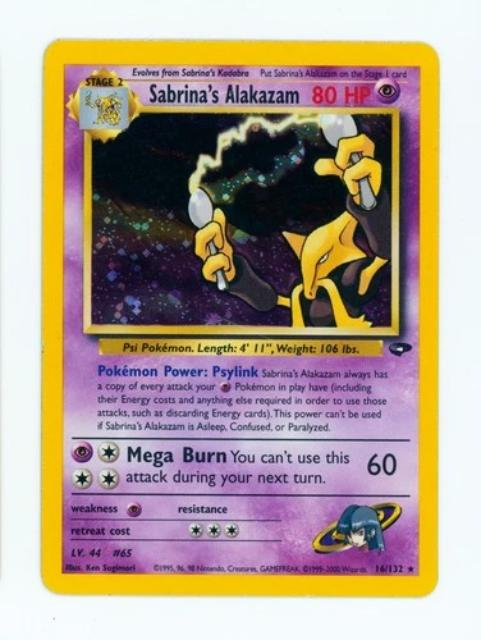Card: (35, 31, 439, 598)
Name: (142, 78, 303, 109)
